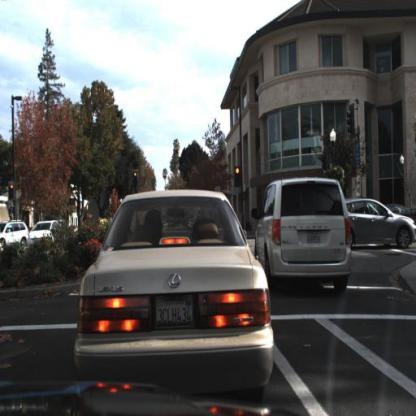car: (79, 187, 268, 386), (255, 177, 351, 292), (335, 196, 416, 253), (24, 218, 64, 246), (1, 220, 30, 248)
trafficLight-Red: (234, 166, 242, 189), (9, 181, 16, 201), (132, 170, 138, 189)
